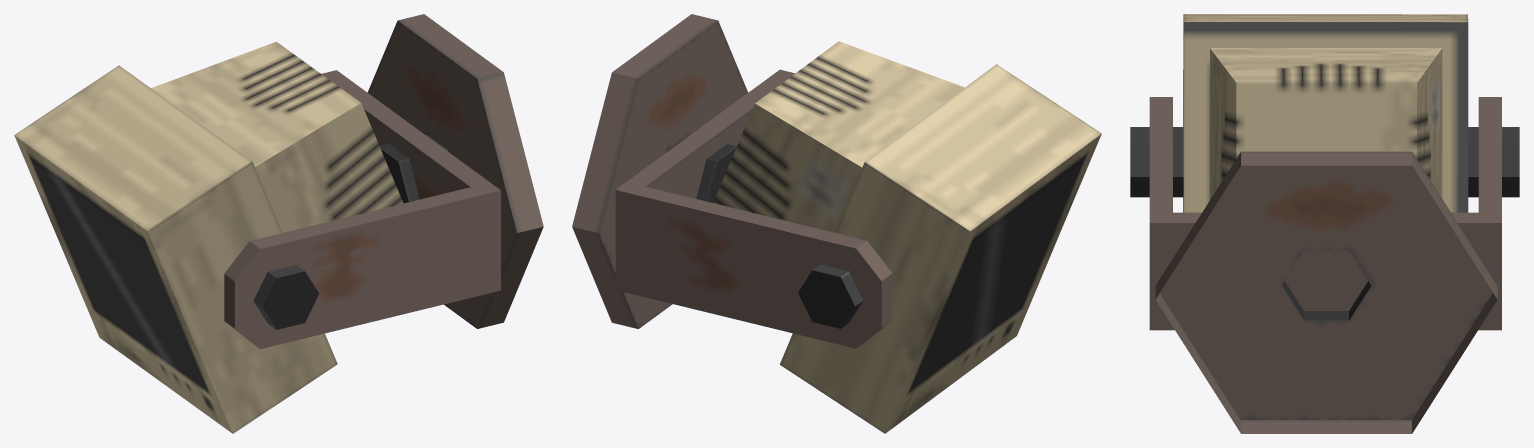
Rendered from obj_monitor_wall.fbx.
The picture shows the model from 3 angles, left to right: view 1: azimuth 30°, elevation 25°; view 2: azimuth 150°, elevation 25°; view 3: azimuth 270°, elevation 25°; orthographic projection. The views are drawn at different scales.
Parts seen in each view (by area): view 1: obj_monitor_wall; view 2: obj_monitor_wall; view 3: obj_monitor_wall.
Boxes of the visible parts, left/top/right/bottom form: obj_monitor_wall: left=14, top=14, right=543, bottom=433; obj_monitor_wall: left=572, top=14, right=1101, bottom=433; obj_monitor_wall: left=1130, top=14, right=1519, bottom=433.
Bounding box in the file's own units: 48.29 × 33.19 × 39.51.
